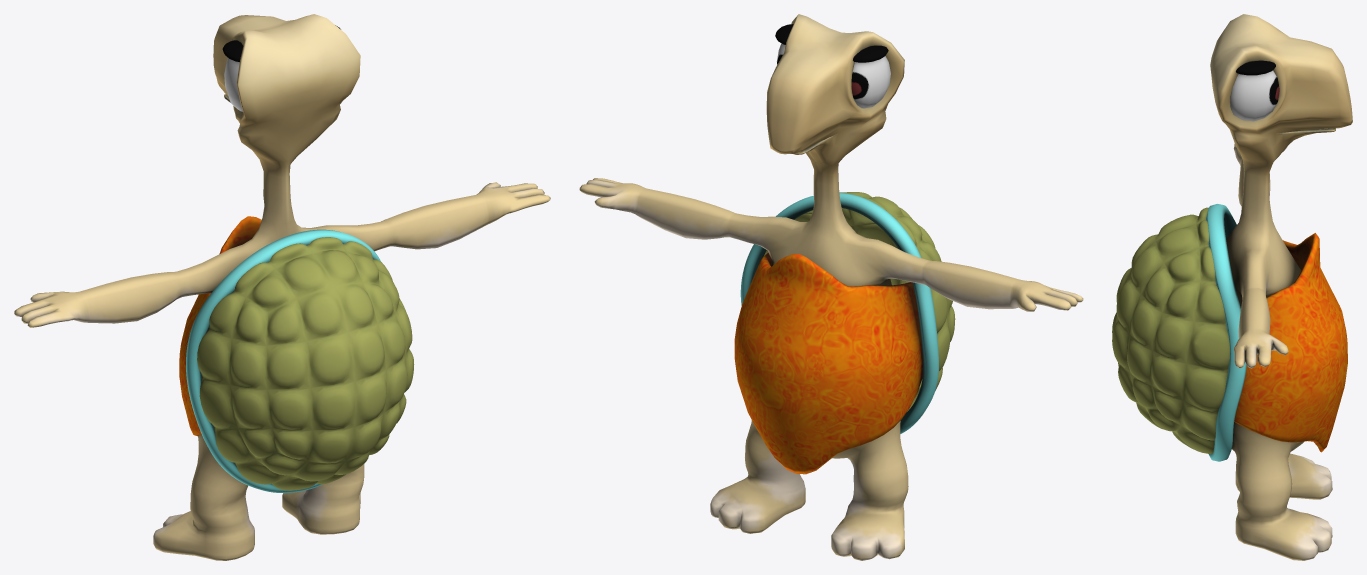
The model's file is turtle.fbx.
The picture shows the model from 3 angles, left to right: view 1: azimuth 30°, elevation 25°; view 2: azimuth 150°, elevation 25°; view 3: azimuth 270°, elevation 25°; orthographic projection. The views are drawn at different scales.
Visible parts, largest first — view 1: turtle; view 2: turtle; view 3: turtle.
Part boxes in pixels (x1,y1,x2,y2): turtle: [14, 14, 550, 560]; turtle: [579, 14, 1083, 560]; turtle: [1112, 14, 1352, 560].
Bounding box in the file's own units: 5.28 × 5.05 × 2.27.
